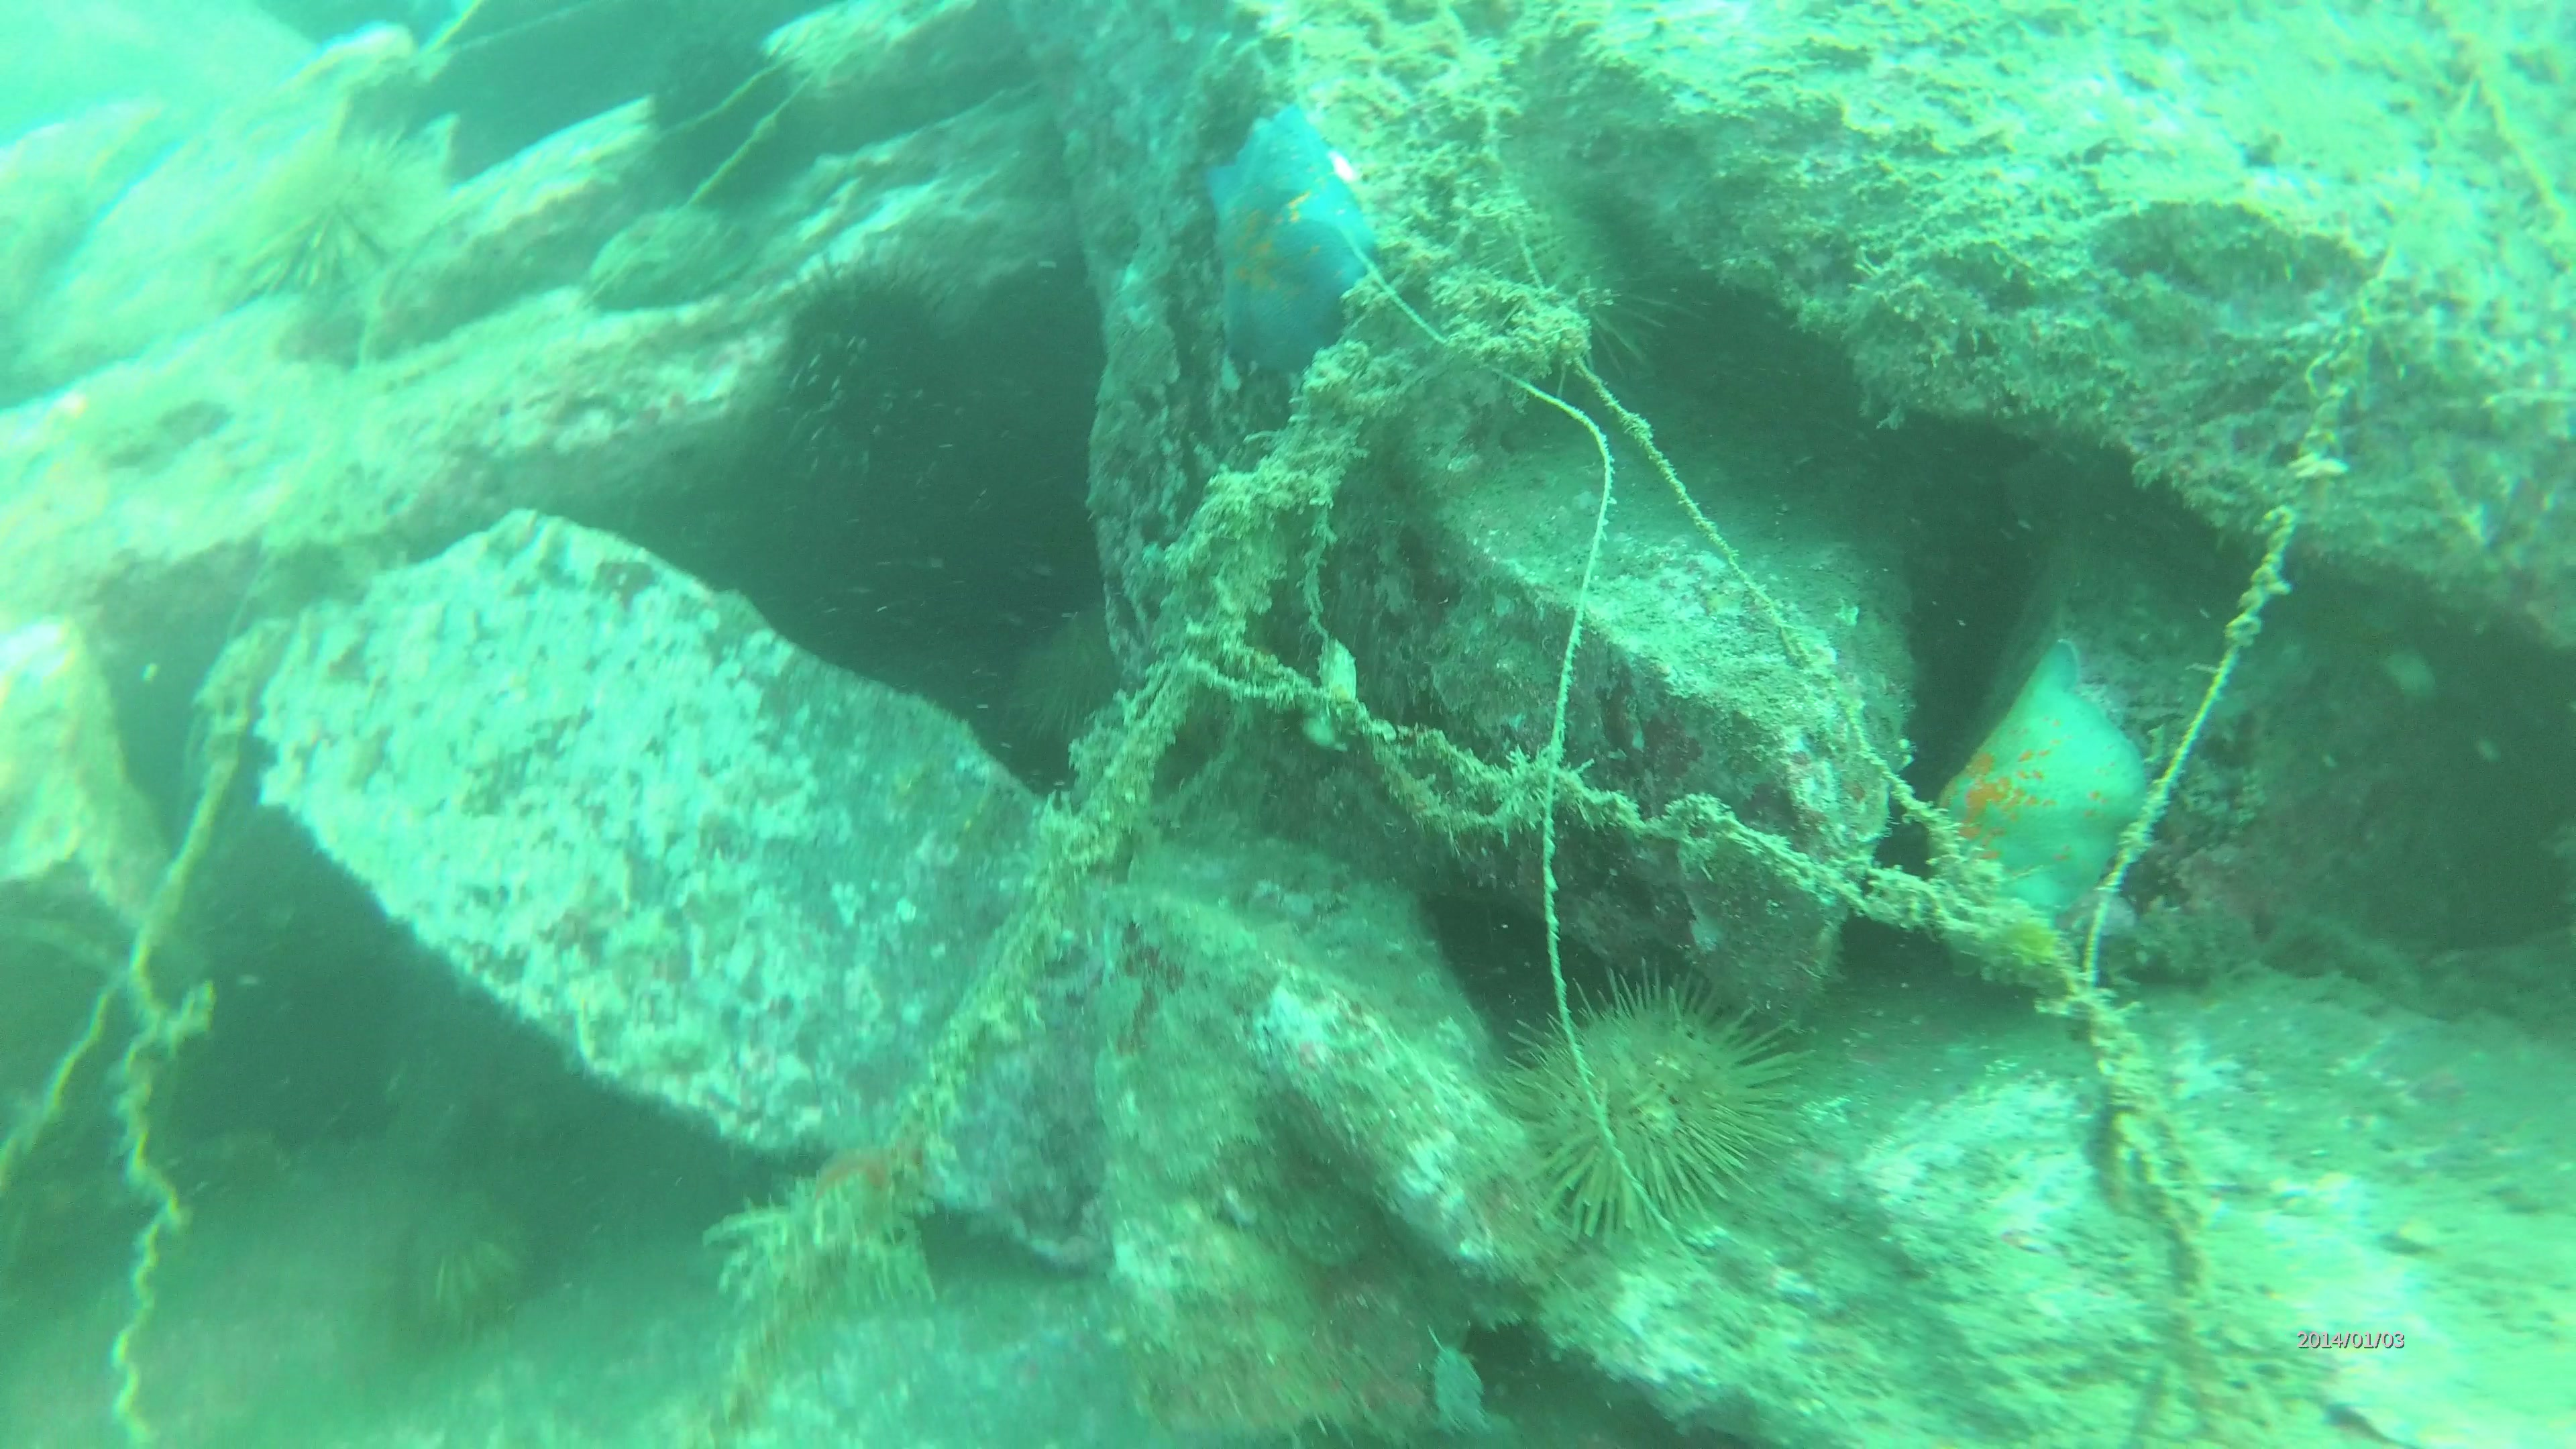echinus: (1516, 973, 1801, 1230), (228, 131, 435, 303), (780, 265, 954, 433), (646, 42, 805, 188), (395, 1185, 552, 1330), (1014, 600, 1132, 741)
starfish: (1928, 628, 2160, 966), (1200, 101, 1376, 384)
